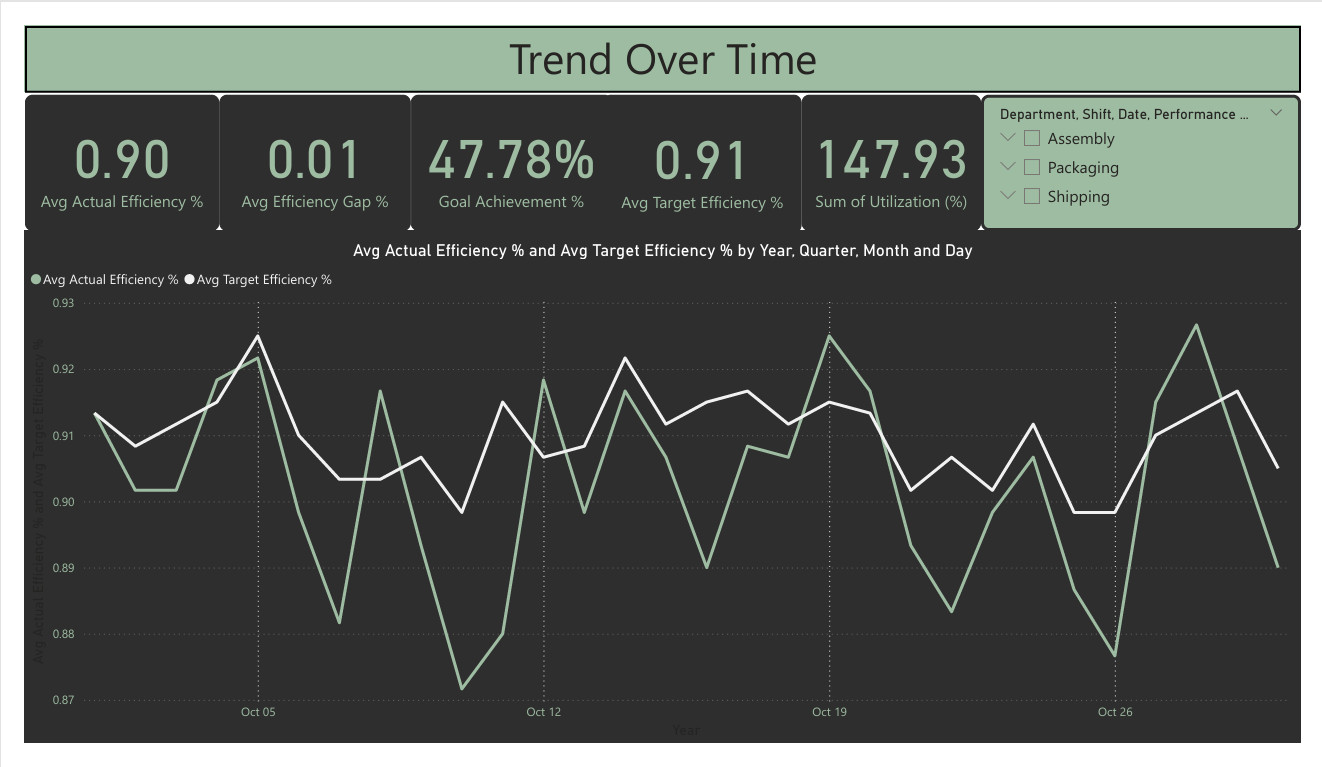

This screenshot's page, from the dashboard's own definition file:
{"tool":"powerbi","page":{"name":"Trend Over Time","canvas":[1280,720],"ordinal":1},"visuals":[{"type":"lineChart","fields":{"Y":["Sheet1.Avg Actual Efficiency %","Sheet1.Avg Target Efficiency %"],"Category":["Sheet1.Date.Variation.Date Hierarchy.Year","Sheet1.Date.Variation.Date Hierarchy.Quarter","Sheet1.Date.Variation.Date Hierarchy.Month","Sheet1.Date.Variation.Date Hierarchy.Day"]},"box":[0,204.9,1280,514.7],"z":0},{"type":"slicer","fields":{"Values":["Sheet1.Department","Sheet1.Shift","Sheet1.Date","Sheet1.Performance Rating"]},"box":[959.4,68.7,320.6,137.4],"z":1000},{"type":"card","fields":{"Values":["Sheet1.Avg Actual Efficiency %"]},"box":[0,68.7,195.3,137.4],"z":2000},{"type":"card","fields":{"Values":["Sheet1.Avg Efficiency Gap %"]},"box":[195.3,68.7,191.6,137.4],"z":3000},{"type":"card","fields":{"Values":["Sheet1.Goal Achievement %"]},"box":[386.9,68.7,202.5,137.4],"z":4000},{"type":"card","fields":{"Values":["Sheet1.Avg Target Efficiency %"]},"box":[580.4,69.2,198.5,138.5],"z":5000},{"type":"card","fields":{"Values":["Sum(Sheet1.Utilization (%))"]},"box":[778.6,68.7,180.8,137.4],"z":6000},{"type":"textbox","box":[0,0,1280,67.5],"z":7000}]}

Visuals, with their boxes on the page's 1280x720 design canvas (x1, y1, x2, y2). These are canvas units, not pixel positions in the 1322x767 screenshot, which may show the page scaled, cropped or inside an application window:
lineChart - Sheet1.Avg Actual Efficiency % x Sheet1.Avg Target Efficiency %: 0 205 1280 720
slicer - Sheet1.Department x Sheet1.Shift: 959 69 1280 206
card - Sheet1.Avg Actual Efficiency %: 0 69 195 206
card - Sheet1.Avg Efficiency Gap %: 195 69 387 206
card - Sheet1.Goal Achievement %: 387 69 589 206
card - Sheet1.Avg Target Efficiency %: 580 69 779 208
card - Sum(Sheet1.Utilization (%)): 779 69 959 206
textbox: 0 0 1280 68
